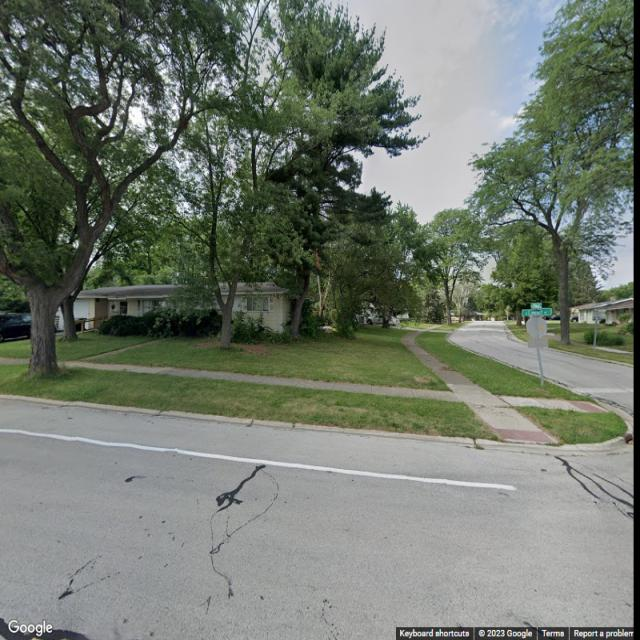House: (52, 280, 295, 336), (312, 298, 409, 326)
